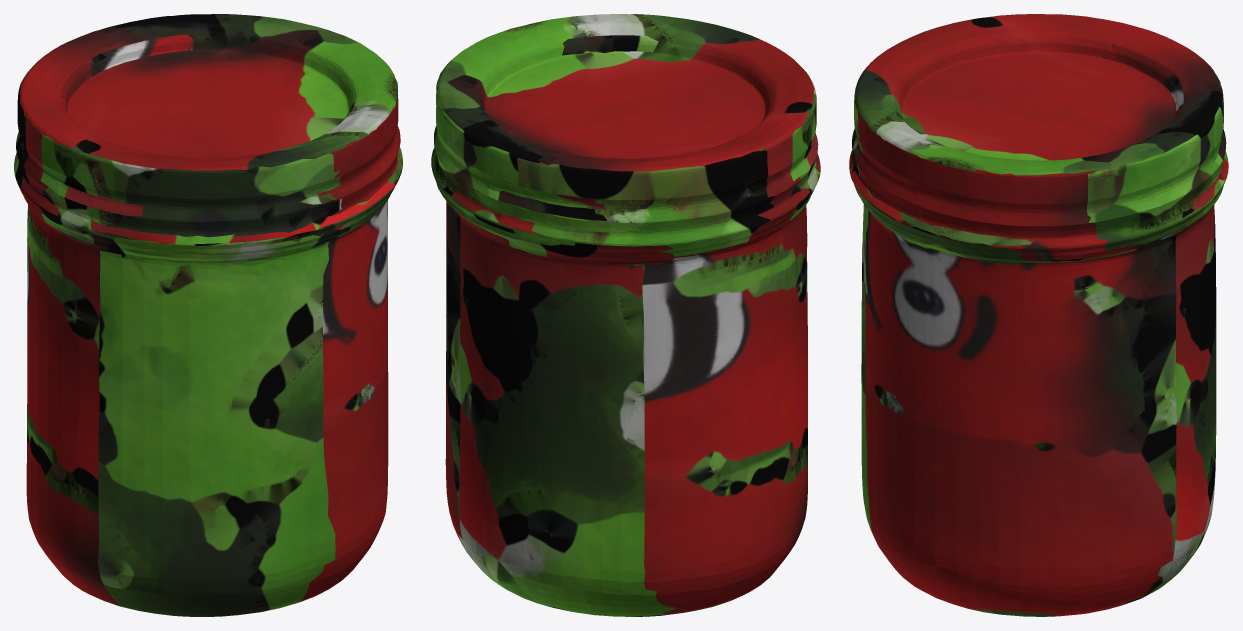
File: sample.obj
The picture shows the model from 3 angles, left to right: view 1: azimuth 30°, elevation 25°; view 2: azimuth 150°, elevation 25°; view 3: azimuth 270°, elevation 25°; orthographic projection.
Size of the model in its own units: 0.1034 by 0.135 by 0.1002.
